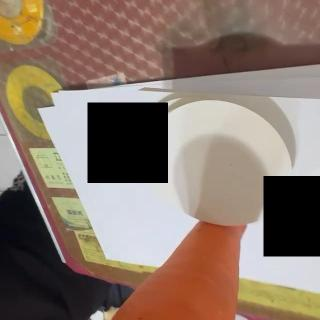carrot: (100, 222, 248, 320)
